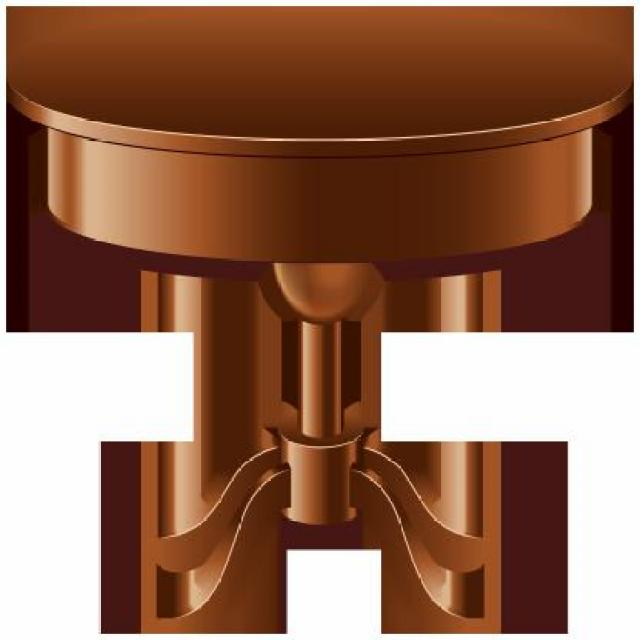table: (4, 4, 634, 639)
